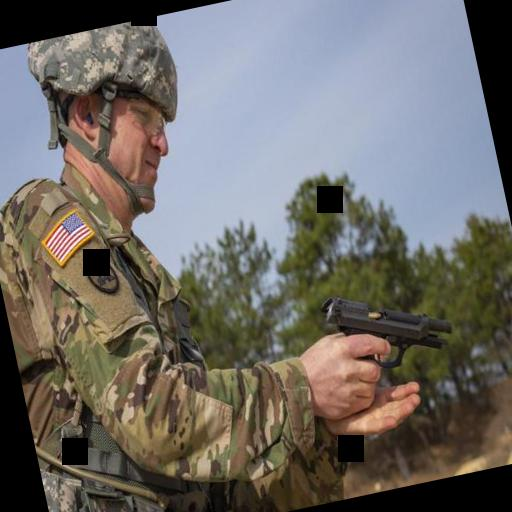Handgun: (314, 264, 460, 388)
